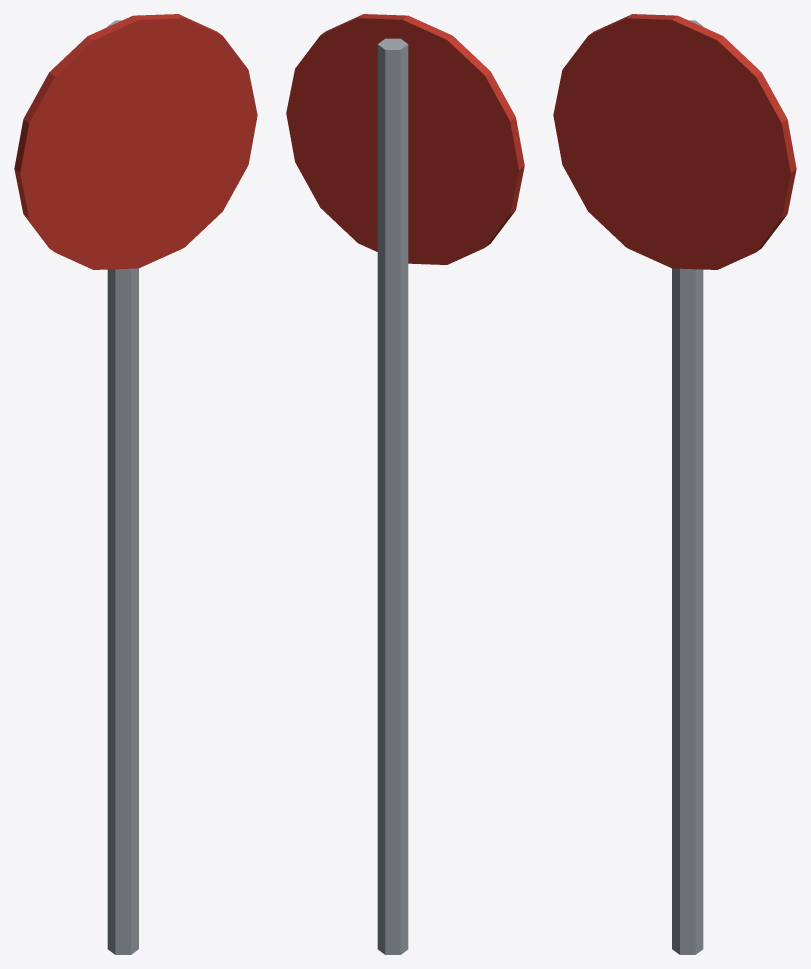
File: Sign_NoEntry.glb
3 views of the same model, side by side, from view 1: azimuth 30°, elevation 25°; view 2: azimuth 150°, elevation 25°; view 3: azimuth 330°, elevation 25° (orthographic).
Parts seen in each view (by area): view 1: Sign_NoEntry_Face, Sign_NoEntry_Metal; view 2: Sign_NoEntry_Face, Sign_NoEntry_Metal; view 3: Sign_NoEntry_Face, Sign_NoEntry_Metal.
Part boxes in pixels (bbox=[...]): Sign_NoEntry_Face: bbox=[14, 14, 257, 269]; Sign_NoEntry_Metal: bbox=[107, 20, 138, 954]; Sign_NoEntry_Face: bbox=[286, 14, 524, 264]; Sign_NoEntry_Metal: bbox=[377, 38, 408, 954]; Sign_NoEntry_Face: bbox=[553, 14, 796, 269]; Sign_NoEntry_Metal: bbox=[672, 20, 703, 954].
Size of the model in its own units: 0.7 by 2.65 by 0.12.
